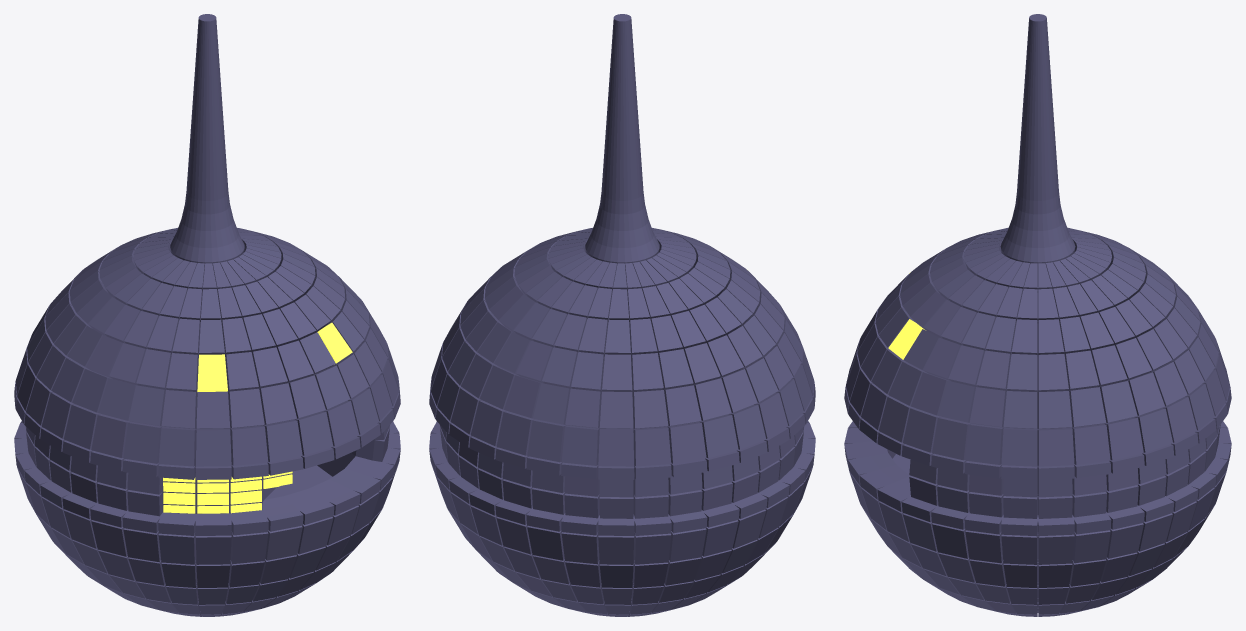
File: SetpieceAlien.fbx
3 renders of one model, left to right at view 1: azimuth 30°, elevation 25°; view 2: azimuth 150°, elevation 25°; view 3: azimuth 270°, elevation 25°, orthographic.
Visible parts, largest first — view 1: SetpieceAlien; view 2: SetpieceAlien; view 3: SetpieceAlien.
Part boxes in pixels (left/top/right/bottom): SetpieceAlien: left=14, top=14, right=400, bottom=616; SetpieceAlien: left=429, top=14, right=815, bottom=616; SetpieceAlien: left=844, top=14, right=1231, bottom=616.
Bounding box in the file's own units: 5458 × 8984 × 5458.
